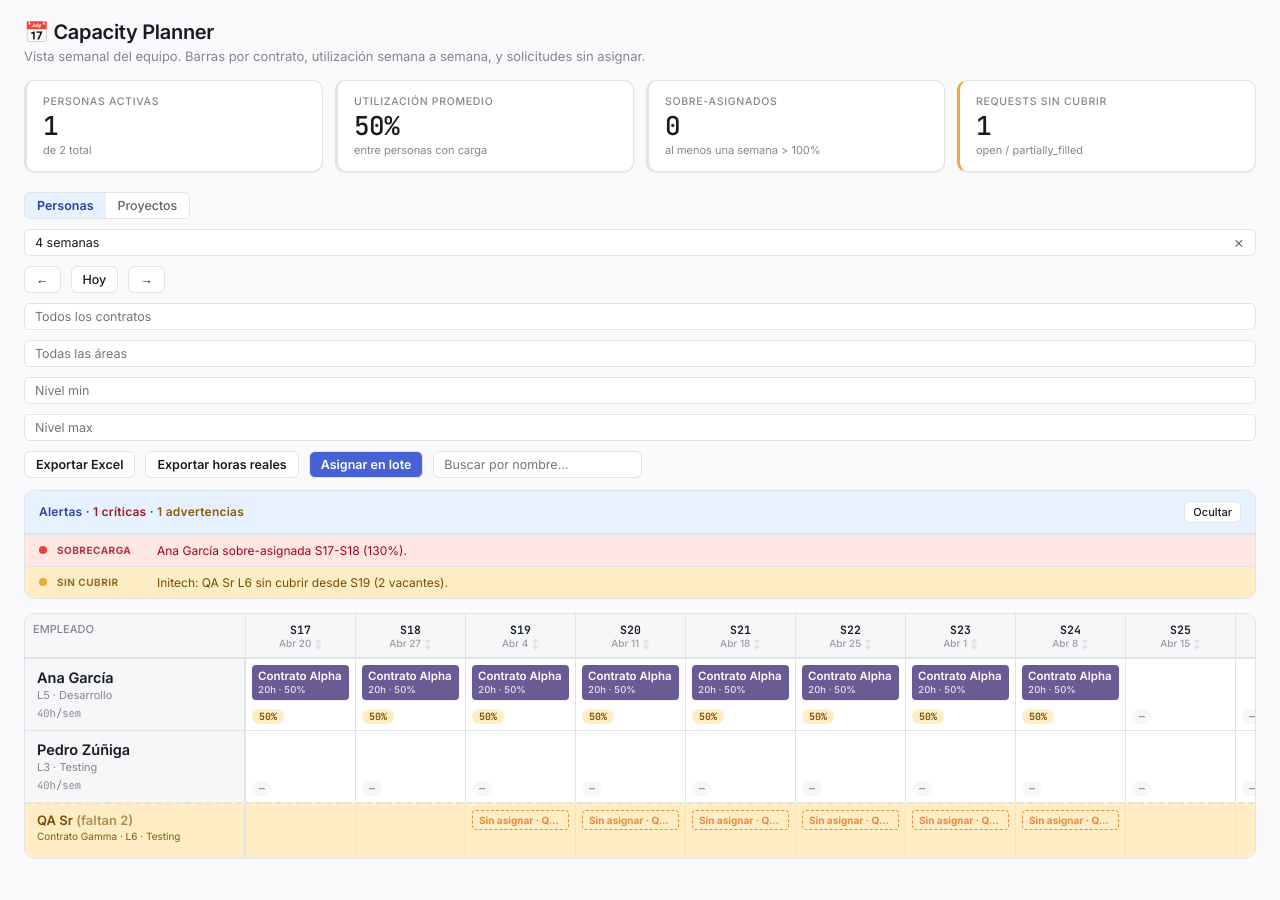
Test: CapacityPlanner module › toggles between Personas and Proyectos views and persists in URL (US-PLN-4)
Check: the element with test id "emp-row-e1" is shown, box [25, 658, 1255, 730]
Step 1. Click the button with test id "view-toggle-projects" → (147, 205), box [106, 193, 189, 218]
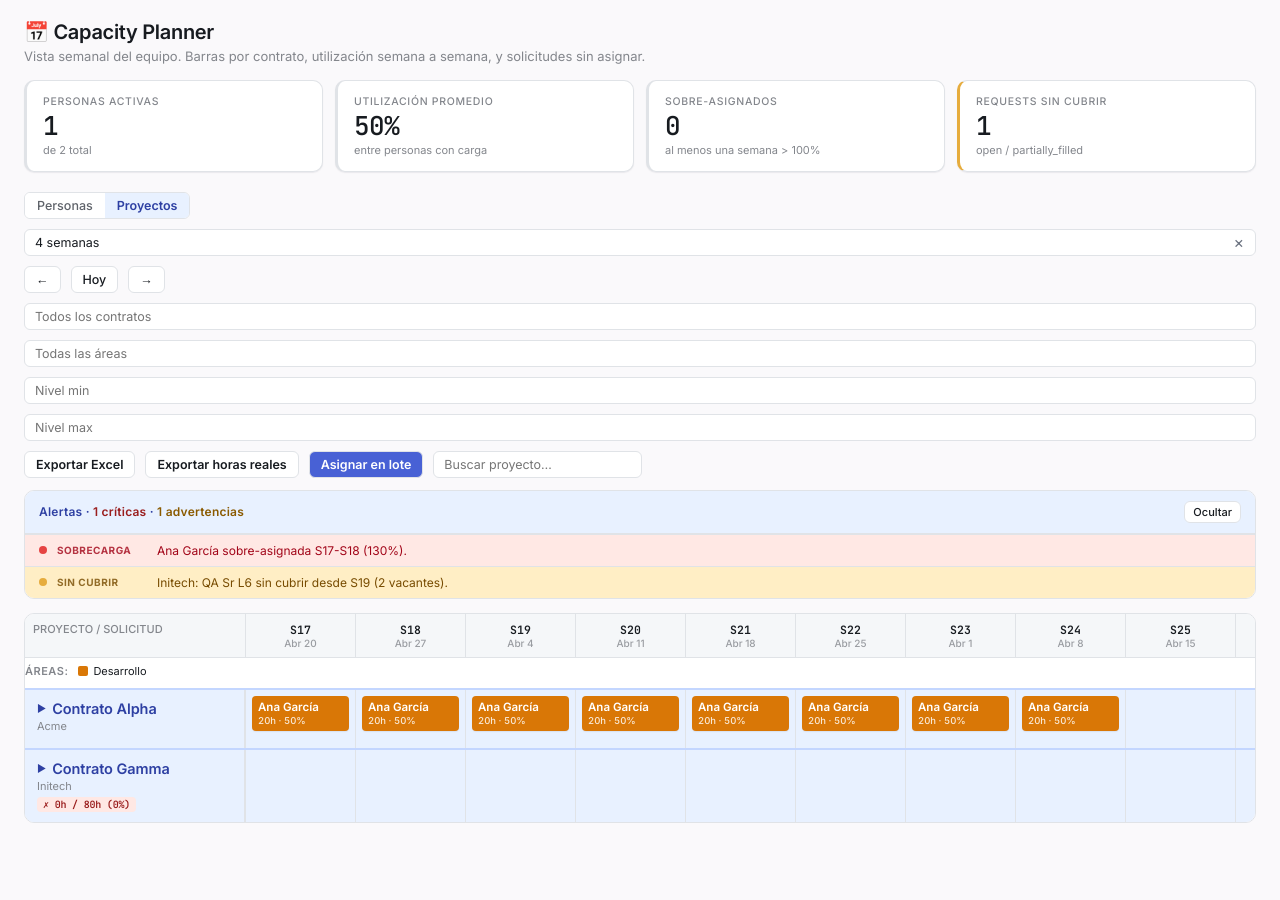
Check: the element with test id "emp-row-e1" is gone
Check: the button with test id "contract-row-ct1" is shown, box [25, 688, 1255, 748]
Check: the button with test id "contract-row-ct3" is shown, box [25, 748, 1255, 822]
// Toggle back.
Step 2. Click the button with test id "view-toggle-employees" → (65, 205), box [25, 193, 105, 218]
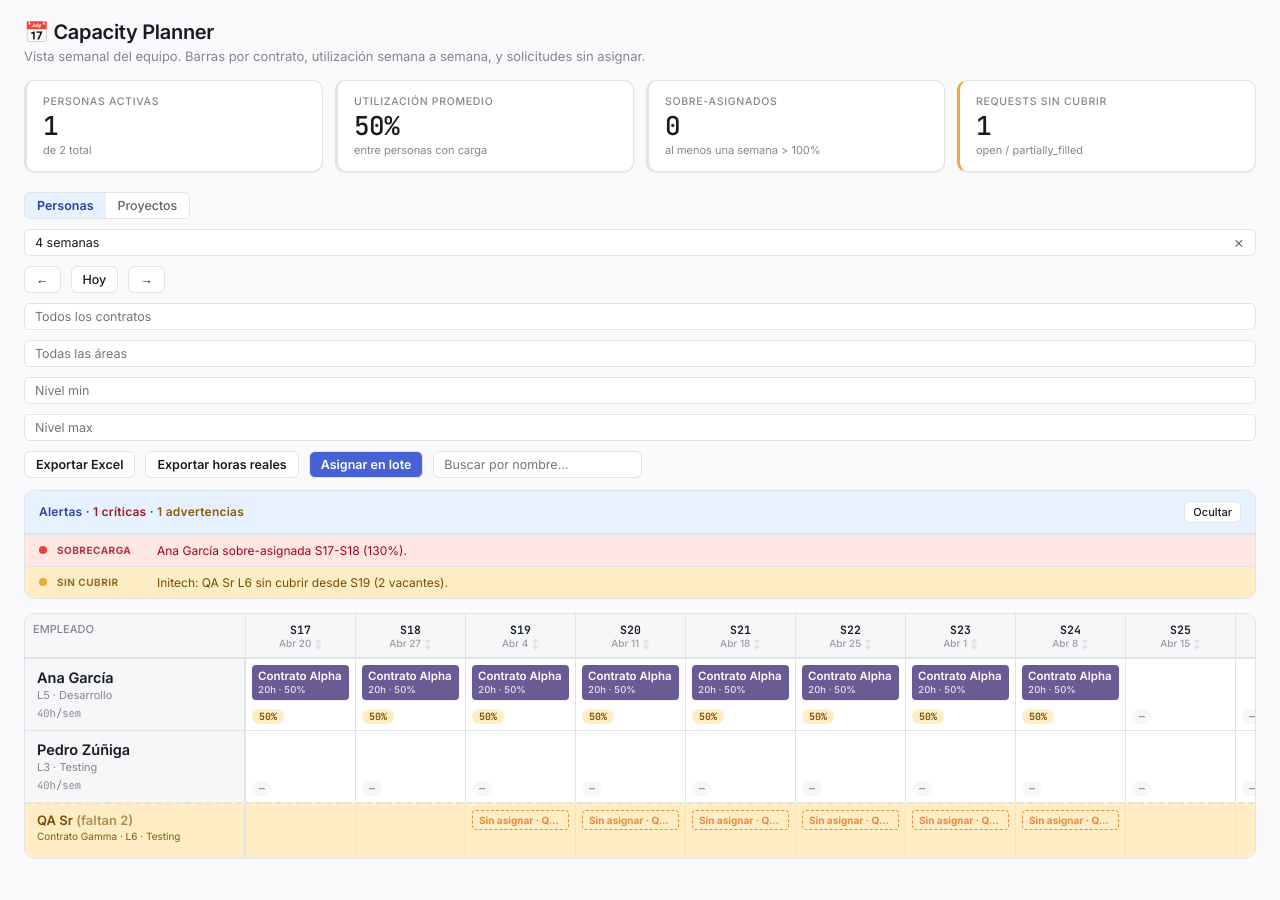
Check: the element with test id "emp-row-e1" is shown, box [25, 658, 1255, 730]
